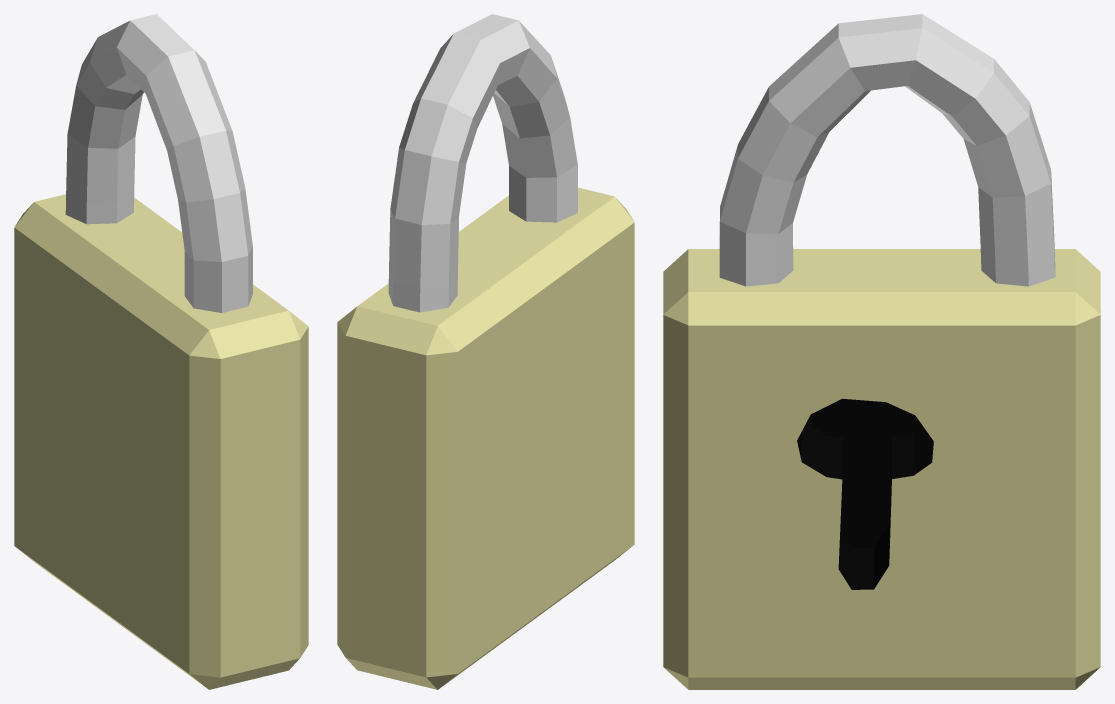
File: Lock.fbx
The picture shows the model from 3 angles, left to right: view 1: azimuth 30°, elevation 25°; view 2: azimuth 150°, elevation 25°; view 3: azimuth 270°, elevation 25°; orthographic projection. The views are drawn at different scales.
Parts seen in each view (by area): view 1: Cube, Cylinder; view 2: Cube, Cylinder; view 3: Cube, Cylinder.
Boxes of the visible parts, x1,y1,x2,y2 form: Cube: (14,194,308,689); Cylinder: (65,14,252,312); Cube: (337,187,634,689); Cylinder: (388,14,577,312); Cube: (663,249,1100,689); Cylinder: (719,14,1055,286).
Size of the model in its own units: 60.28 by 283 by 173.
